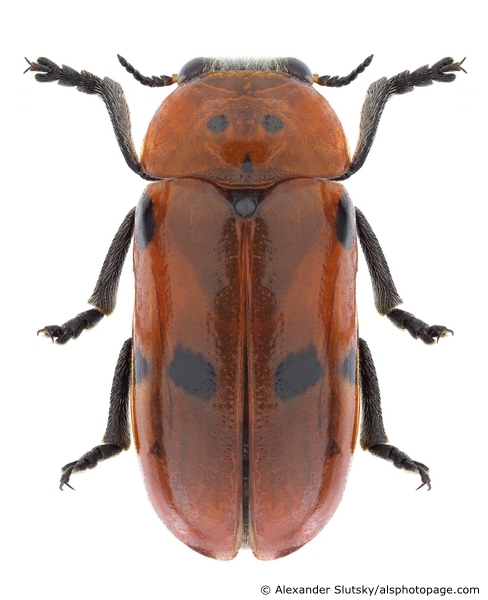Clytra_novempunctata: (11, 28, 472, 568)
